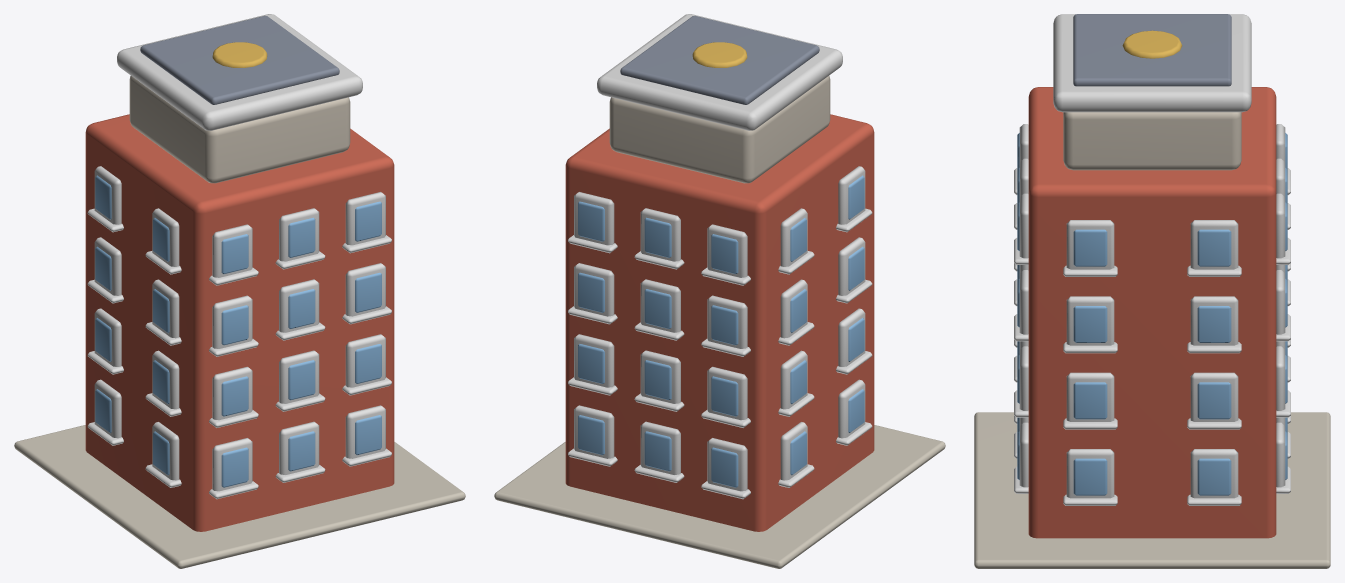
3 views of the same model, side by side, from view 1: azimuth 30°, elevation 25°; view 2: azimuth 150°, elevation 25°; view 3: azimuth 270°, elevation 25° (orthographic). The views are drawn at different scales.
Visible parts, largest first — view 1: Cube; view 2: Cube; view 3: Cube.
Boxes of the visible parts, x1,y1,x2,y2 form: Cube: (14,14,465,568); Cube: (494,14,945,568); Cube: (974,14,1330,568).
Bounding box in the file's own units: 0.72 × 1.01 × 0.72.
